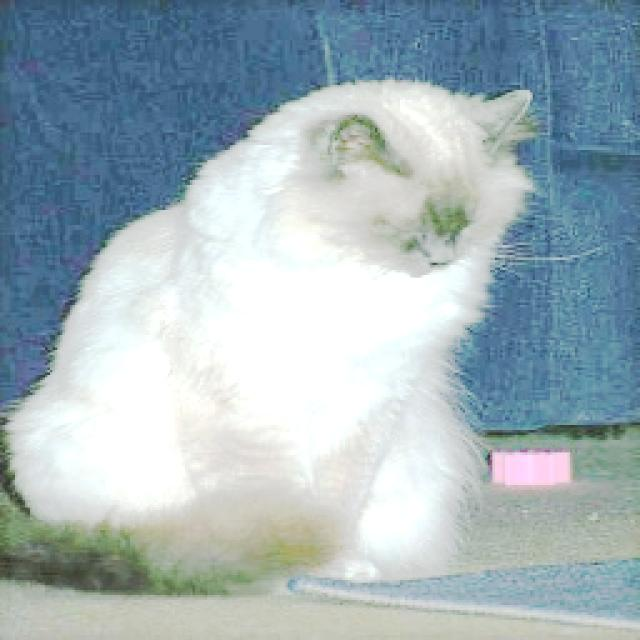cat: (0, 55, 541, 608)
